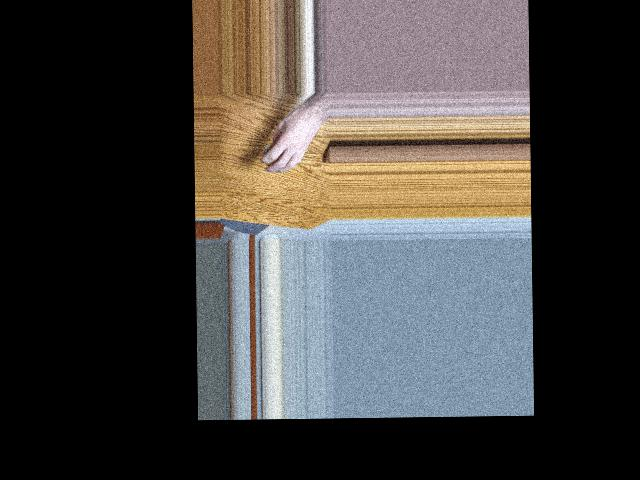onion: (262, 142, 287, 167)
